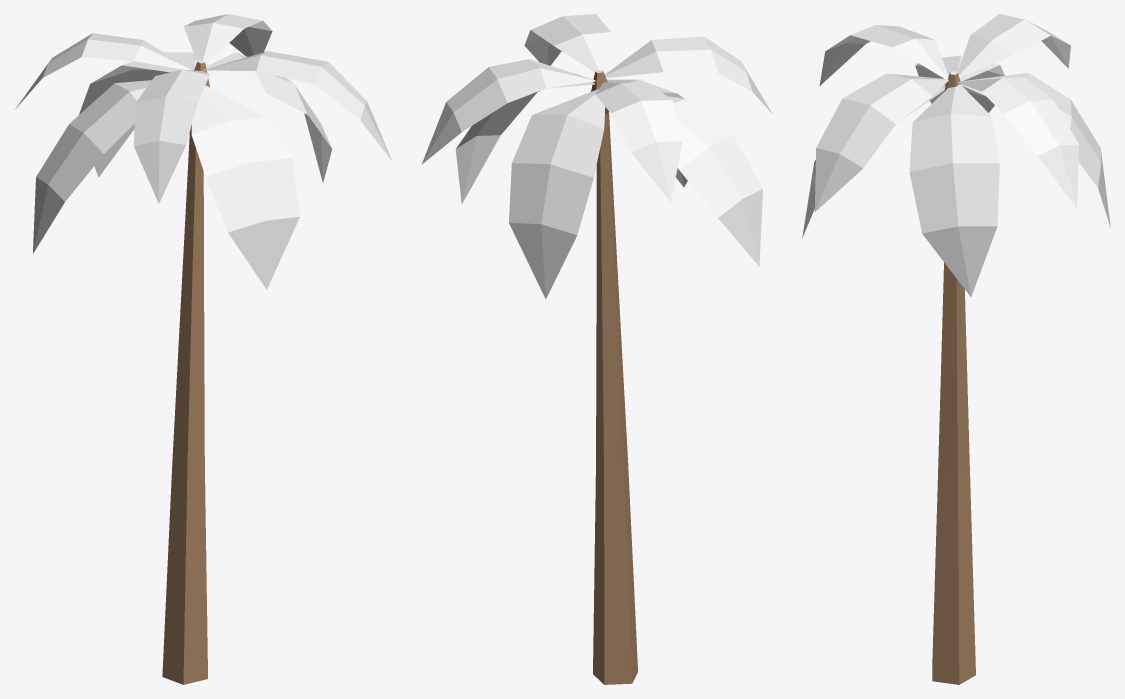
Rendered from Palm_Tree_OneSided_m_Snow_01_LOD.fbx.
3 views of the same model, side by side, from view 1: azimuth 30°, elevation 25°; view 2: azimuth 150°, elevation 25°; view 3: azimuth 270°, elevation 25° (orthographic).
Parts seen in each view (by area): view 1: Palm_Tree_OneSided_m_Snow_01_LOD0; view 2: Palm_Tree_OneSided_m_Snow_01_LOD0; view 3: Palm_Tree_OneSided_m_Snow_01_LOD0.
Boxes of the visible parts, x1,y1,x2,y2 form: Palm_Tree_OneSided_m_Snow_01_LOD0: (15,14,392,684); Palm_Tree_OneSided_m_Snow_01_LOD0: (421,14,772,684); Palm_Tree_OneSided_m_Snow_01_LOD0: (802,14,1110,684).
Size of what is drawn, in the model's own units: 298 by 601 by 269.
